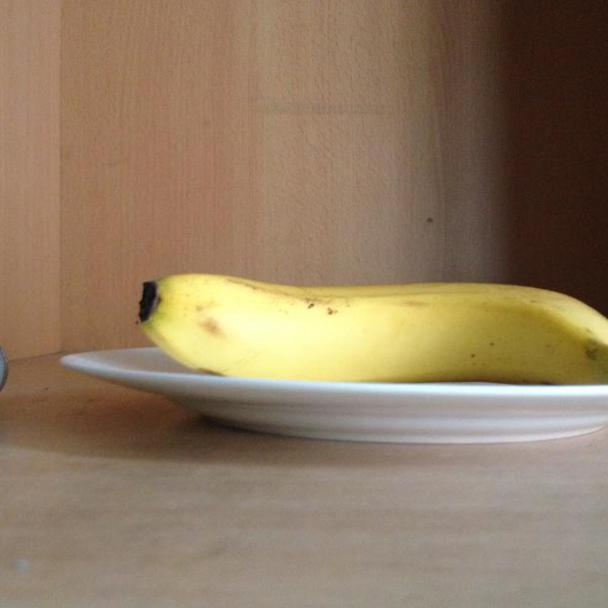banana: (134, 270, 608, 386)
